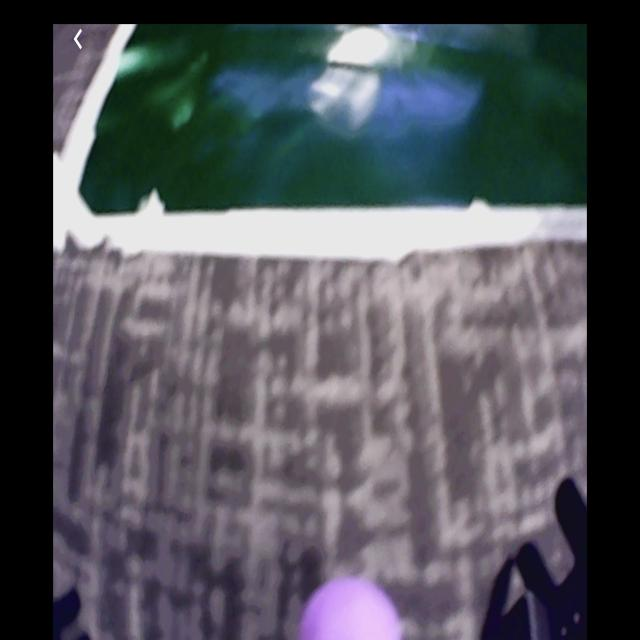ball: (300, 581, 410, 640)
